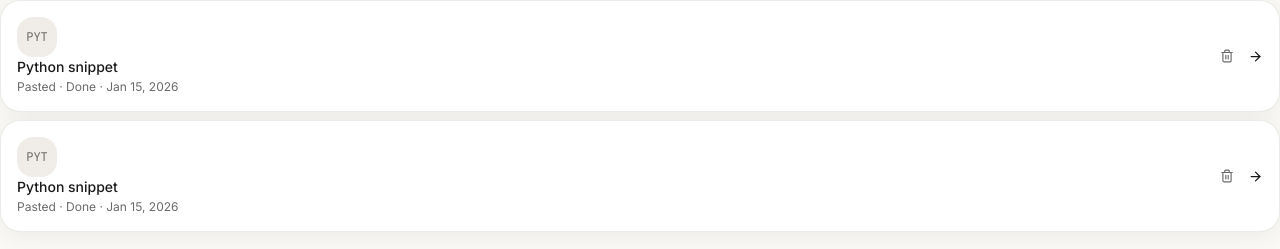
Test case: ReviewHistory — delete flow › only shows confirmation for the clicked row when multiple reviews exist
// Click the trash for the first row only
What coordinates should you click on to do the following:
click the 1st button named "delete review"
I would click on:
 (1227, 56)
Its box is left=1214, top=43, right=1240, bottom=69.
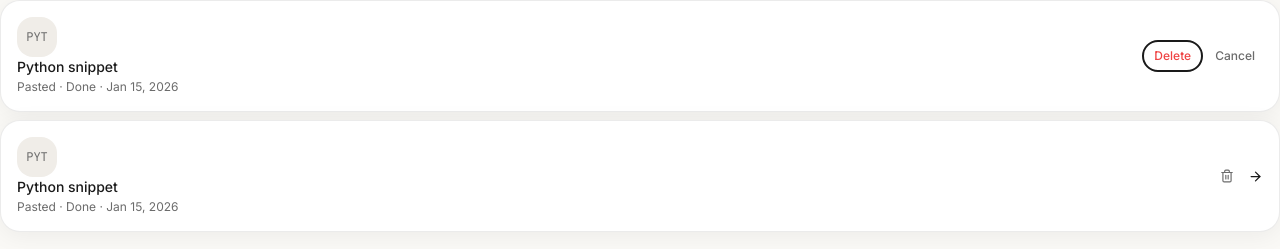
Expected: the number of buttons "Delete" is 1, left=1146, top=44, right=1199, bottom=68
